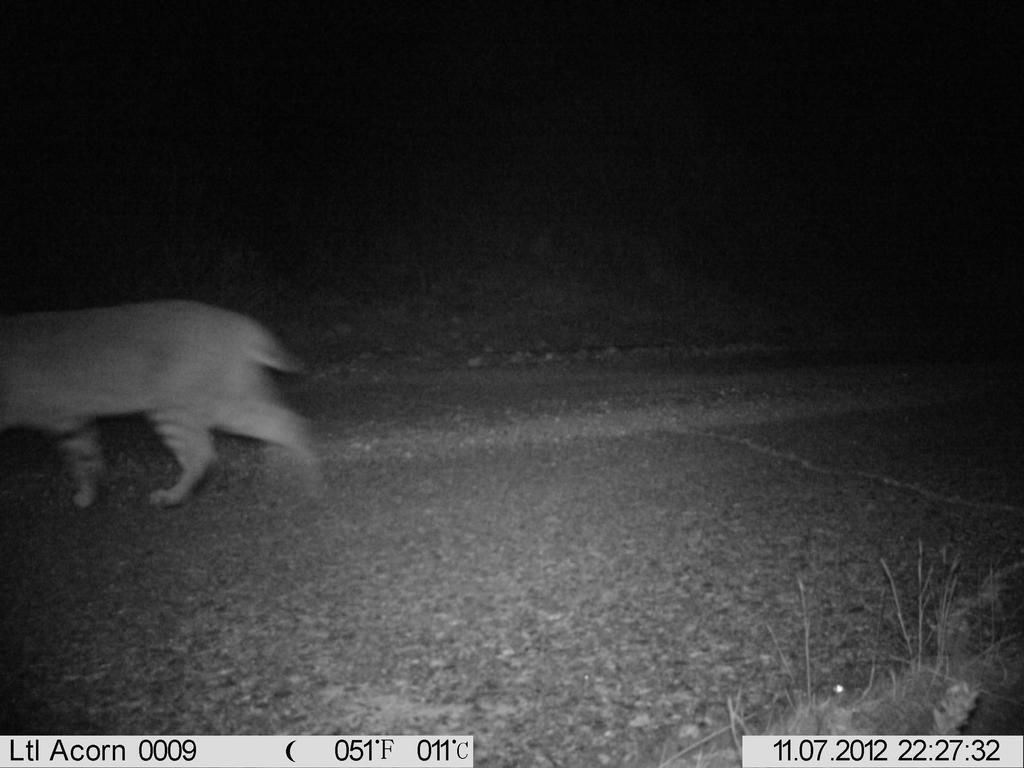bobcat: (2, 287, 338, 519)
